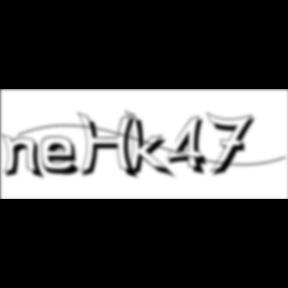4: (166, 115, 214, 179)
7: (206, 111, 262, 179)
H: (77, 112, 143, 182)
e: (41, 135, 87, 178)
k: (124, 108, 178, 181)
n: (1, 132, 48, 181)
